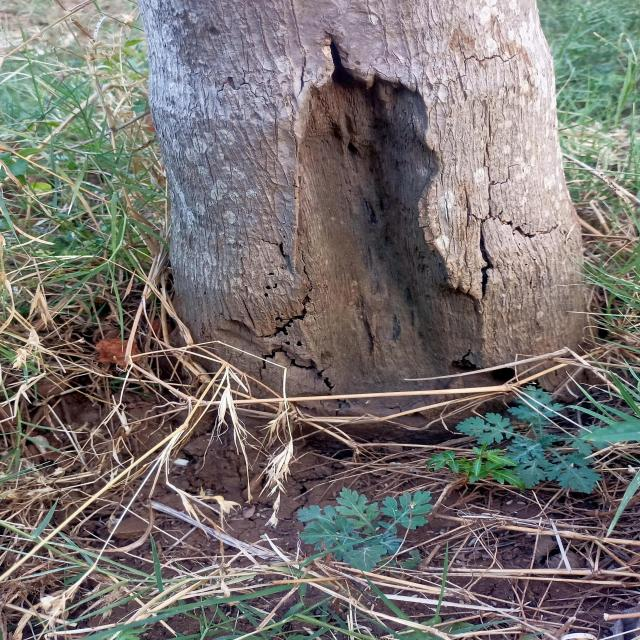Stem_Cracking: (153, 34, 572, 435)
